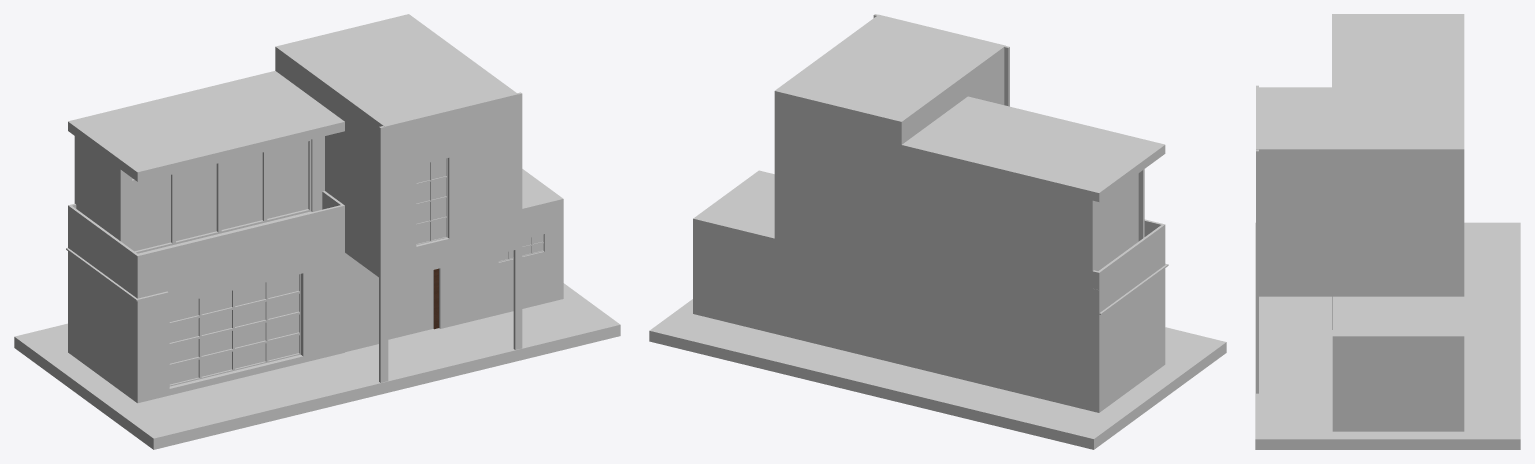
Rendered from Casa1.gltf.
3 views of the same model, side by side, from view 1: azimuth 30°, elevation 25°; view 2: azimuth 150°, elevation 25°; view 3: azimuth 270°, elevation 25° (orthographic). The views are drawn at different scales.
Parts seen in each view (by area): view 1: Cube.007; view 2: Cube.007; view 3: Cube.007.
Part boxes in pixels (<box>): Cube.007: <box>14,14,620,449</box>; Cube.007: <box>649,14,1226,449</box>; Cube.007: <box>1255,14,1520,449</box>.
Bounding box in the file's own units: 17.25 × 9.47 × 8.92.
Materials: 4 (1 with a texture image).
